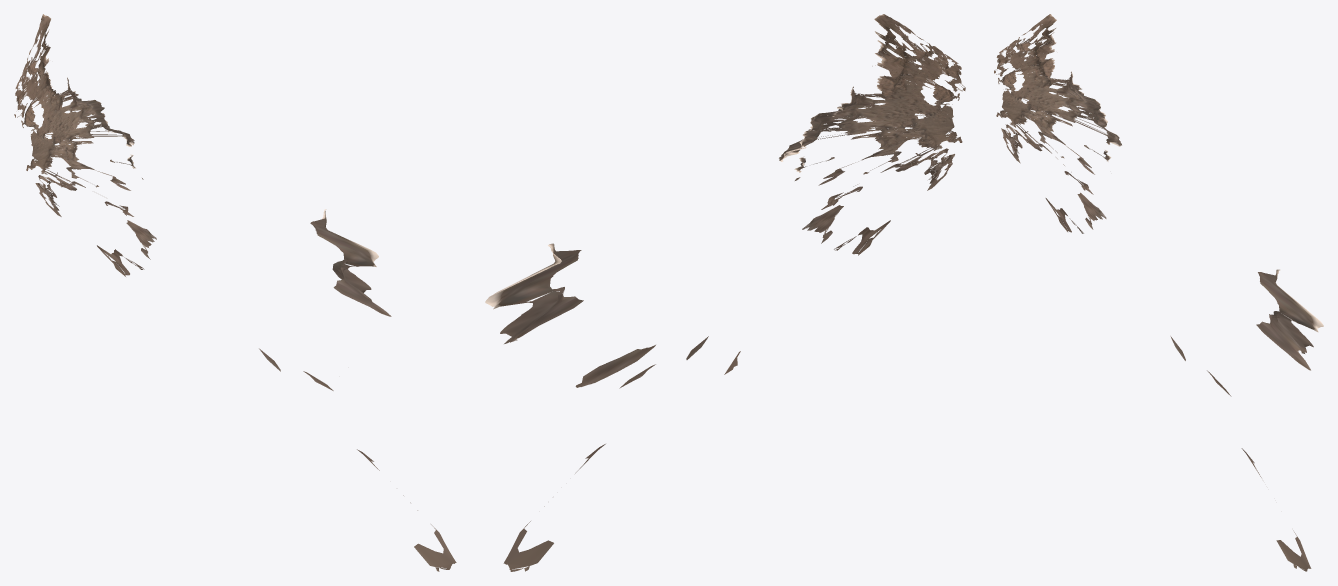
Rendered from context-3.glb.
The picture shows the model from 3 angles, left to right: view 1: azimuth 30°, elevation 25°; view 2: azimuth 150°, elevation 25°; view 3: azimuth 330°, elevation 25°; orthographic projection. The views are drawn at different scales.
Size of the model in its own units: 48.25 by 66.57 by 9.58.
Materials: 1 (1 with a texture image).
